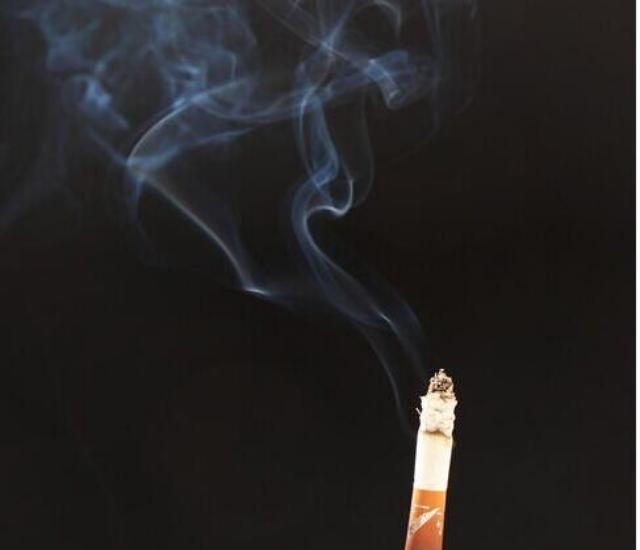Cigarette: (404, 367, 455, 550)
